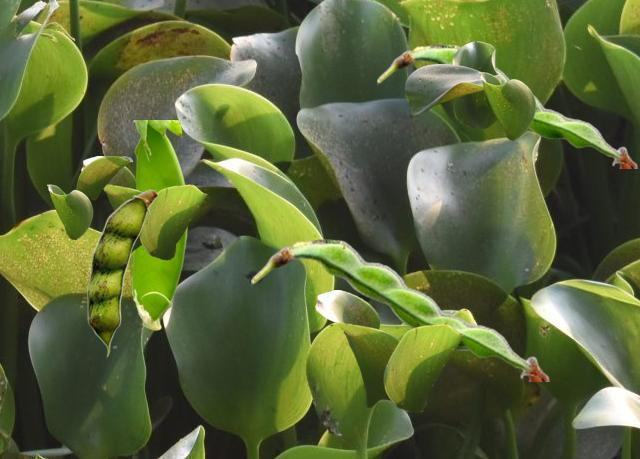pea: (251, 239, 549, 380), (377, 44, 637, 167), (87, 189, 157, 356), (132, 120, 186, 329)
